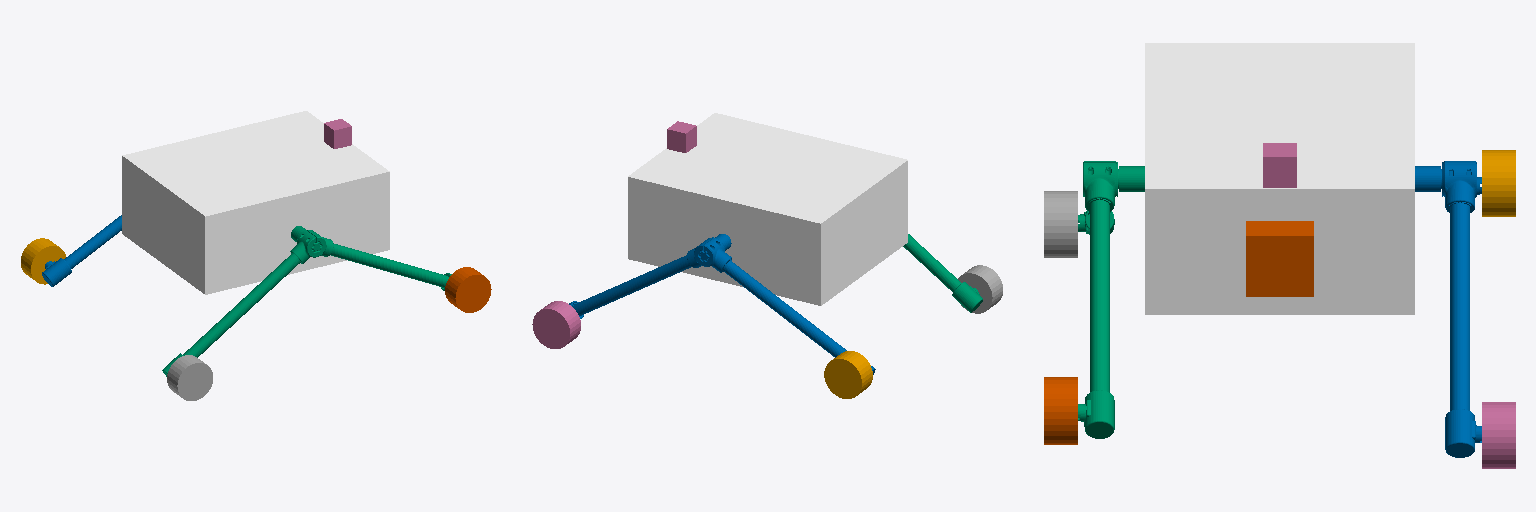
URDF robot description (plasticRover):
<?xml version="1.0" encoding="utf-8"?>
<!-- =================================================================================== -->
<!-- |    This document was autogenerated by xacro from rover.xacro                    | -->
<!-- |    EDITING THIS FILE BY HAND IS NOT RECOMMENDED                                 | -->
<!-- =================================================================================== -->
<robot name="plasticRover">
  <material name="black">
    <color rgba="0.0 0.0 0.0 1.0"/>
  </material>
  <material name="blue">
    <color rgba="0.203125 0.23828125 0.28515625 1.0"/>
  </material>
  <material name="green">
    <color rgba="0.0 0.8 0.0 1.0"/>
  </material>
  <material name="grey">
    <color rgba="0.2 0.2 0.2 1.0"/>
  </material>
  <material name="orange">
    <color rgba="1.0 0.423529411765 0.0392156862745 1.0"/>
  </material>
  <material name="brown">
    <color rgba="0.870588235294 0.811764705882 0.764705882353 1.0"/>
  </material>
  <material name="red">
    <color rgba="0.80078125 0.12890625 0.1328125 1.0"/>
  </material>
  <material name="white">
    <color rgba="1.0 1.0 1.0 1.0"/>
  </material>
  <gazebo>
    <plugin filename="libgazebo_ros_skid_steer_drive.so" name="ss_drive">
      <updateRate>100.0</updateRate>
      <robotNamespace>/</robotNamespace>
      <leftFrontJoint>wheel_FL</leftFrontJoint>
      <rightFrontJoint>wheel_FR</rightFrontJoint>
      <leftRearJoint>wheel_BL</leftRearJoint>
      <rightRearJoint>wheel_BR</rightRearJoint>
      <wheelSeparation>0.77</wheelSeparation>
      <wheelDiameter>0.2</wheelDiameter>
      <robotBaseFrame>link_chassis</robotBaseFrame>
      <torque>10</torque>
      <topicName>cmd_vel</topicName>
      <broadcastTF>false</broadcastTF>
    </plugin>
  </gazebo>
  <gazebo reference="camera_link">
    <sensor name="camera1" type="camera">
      <update_rate>30.0</update_rate>
      <camera name="head">
        <horizontal_fov>1.3962634</horizontal_fov>
        <image>
          <width>800</width>
          <height>800</height>
          <format>R8G8B8</format>
        </image>
        <clip>
          <near>0.02</near>
          <far>300</far>
        </clip>
        <noise>
          <type>gaussian</type>
          <!-- Noise is sampled independently per pixel on each frame.
		       That pixel's noise value is added to each of its color
		       channels, which at that point lie in the range [0,1]. -->
          <mean>0.0</mean>
          <stddev>0.007</stddev>
        </noise>
      </camera>
      <plugin filename="libgazebo_ros_camera.so" name="camera_controller">
        <alwaysOn>true</alwaysOn>
        <updateRate>0.0</updateRate>
        <cameraName>rover/camera1</cameraName>
        <imageTopicName>image_raw</imageTopicName>
        <cameraInfoTopicName>camera_info</cameraInfoTopicName>
        <frameName>camera_link</frameName>
        <hackBaseline>0.07</hackBaseline>
        <distortionK1>0.0</distortionK1>
        <distortionK2>0.0</distortionK2>
        <distortionK3>0.0</distortionK3>
        <distortionT1>0.0</distortionT1>
        <distortionT2>0.0</distortionT2>
      </plugin>
    </sensor>
  </gazebo>
  <gazebo reference="lidar_link">
    <sensor name="head_hokuyo_sensor" type="ray">
      <pose>0 0 0 0 0 0</pose>
      <visualize>false</visualize>
      <update_rate>40</update_rate>
      <ray>
        <scan>
          <horizontal>
            <samples>720</samples>
            <resolution>1</resolution>
            <min_angle>-1.570796</min_angle>
            <max_angle>1.570796</max_angle>
          </horizontal>
        </scan>
        <range>
          <min>0.10</min>
          <max>30.0</max>
          <resolution>0.01</resolution>
        </range>
        <noise>
          <type>gaussian</type>
          <!-- Noise parameters based on published spec for Hokuyo laser
               achieving "+-30mm" accuracy at range < 10m.  A mean of 0.0m and
               stddev of 0.01m will put 99.7% of samples within 0.03m of the true
               reading. -->
          <mean>0.0</mean>
          <stddev>0.01</stddev>
        </noise>
      </ray>
      <plugin filename="libgazebo_ros_laser.so" name="gazebo_ros_head_hokuyo_controller">
        <topicName>/rover/laser/scan</topicName>
        <frameName>lidar_link</frameName>
      </plugin>
    </sensor>
  </gazebo>
  <link name="link_chassis">
    <!-- values calculated in fusion360 -->
    <inertial>
      <mass value="2.441483"/>
      <origin rpy="0 0 0" xyz="0  0 0"/>
      <inertia ixx="0.061" ixy="0.0003601" ixz="-2.478e-05" iyy="0.119" iyz="5.191e-07" izz="0.081"/>
    </inertial>
    <collision>
      <geometry>
        <!--Again this is from the fusion360-->
        <box size="0.511 0.4 0.208"/>
      </geometry>
      <origin rpy="1.570796 0 0" xyz="0 0 0"/>
    </collision>
    <visual>
      <geometry>
        <!--<mesh filename="package://threedrover_description/MODELS/OWR_20_CHASSIS_00_ASM.stl" scale="0.001 0.001 0.001" />-->
        <box size="0.511 0.208 0.4"/>
      </geometry>
      <origin rpy="1.570796 0 0" xyz="0 0 0"/>
      <material name="white"/>
    </visual>
  </link>
  <!-- Differential -->
  <!-- Diif bar -->
  <link name="link_right_bogie_stat">
    <!-- values from the fusion360 files -->
    <inertial>
      <mass value="0.441"/>
      <origin rpy="0 0 0" xyz="-0.00000069097  0.0002123 0.038"/>
      <inertia ixx="0.002" ixy="-0.00003576" ixz="-0.000000003393" iyy="0.000779" iyz="0.00000003725" izz="0.002"/>
    </inertial>
    <!--  <inertial>
		      <mass value="0.441"/>
		      <inertia ixx="0.000526666666667" ixy="0" ixz="0" iyy="0.000526666666667" iyz="0" izz="0.001"/>
		    </inertial> -->
    <collision name="link_right_bogie_stat_collision">
      <geometry>
        <cylinder length="0.05" radius="0.05"/>
        <!--<mesh filename="package://threedrover_description/MODELS/OWR_20_BOGIE_00_ASM_STAT.stl" scale="0.001 0.001 0.001" />-->
      </geometry>
    </collision>
    <visual name="link_right_bogie_stat_visual">
      <geometry>
        <cylinder length="0.05" radius="0.05"/>
        <!--<mesh filename="package://threedrover_description/MODELS/OWR_20_BOGIE_00_ASM_STAT.stl" scale="0.001 0.001 0.001" />-->
      </geometry>
    </visual>
  </link>
  <link name="link_right_bogie_rot">
    <!-- values from the fusion360 files -->
    <inertial>
      <mass value="0.871251"/>
      <origin rpy="0 0 0" xyz="0.004  -0.077 0.091"/>
      <inertia ixx="0.009" ixy="-0.002" ixz="-9.081e-05" iyy="0.039" iyz="0.002" izz="0.045"/>
    </inertial>
    <visual name="link_right_bogie_rot_visual">
      <geometry>
        <mesh filename="package://threedrover_description/MODELS/OWR_20_BOGIE_00_ASM_ROT.stl" scale="0.001 0.001 0.001"/>
      </geometry>
    </visual>
  </link>
  <link name="link_left_bogie_stat">
    <!-- values from the fusion360 files -->
    <inertial>
      <mass value="0.441"/>
      <origin rpy="0 0 0" xyz="-0.00000069097  0.0002123 0.038"/>
      <inertia ixx="0.002" ixy="-0.00003576" ixz="-0.000000003393" iyy="0.000779" iyz="0.00000003725" izz="0.002"/>
    </inertial>
    <!--  <inertial>
		      <mass value="0.441"/>
		      <inertia ixx="0.000526666666667" ixy="0" ixz="0" iyy="0.000526666666667" iyz="0" izz="0.001"/>
		    </inertial> -->
    <collision name="link_left_bogie_stat_collision">
      <geometry>
        <cylinder length="0.05" radius="0.05"/>
        <!--<mesh filename="package://threedrover_description/MODELS/OWR_20_BOGIE_00_ASM_STAT.stl" scale="0.001 0.001 0.001" />-->
      </geometry>
    </collision>
    <visual name="link_left_bogie_stat_visual">
      <geometry>
        <cylinder length="0.05" radius="0.05"/>
        <!--<mesh filename="package://threedrover_description/MODELS/OWR_20_BOGIE_00_ASM_STAT.stl" scale="0.001 0.001 0.001" />-->
      </geometry>
    </visual>
  </link>
  <link name="link_left_bogie_rot">
    <!-- values from the fusion360 files -->
    <inertial>
      <mass value="0.871251"/>
      <origin rpy="0 0 0" xyz="0.004  -0.077 0.091"/>
      <inertia ixx="0.009" ixy="-0.002" ixz="-9.081e-05" iyy="0.039" iyz="0.002" izz="0.045"/>
    </inertial>
    <visual name="link_left_bogie_rot_visual">
      <geometry>
        <mesh filename="package://threedrover_description/MODELS/OWR_20_BOGIE_00_ASM_ROT.stl" scale="0.001 0.001 0.001"/>
      </geometry>
    </visual>
  </link>
  <joint name="joint_bogie_left_stat" type="fixed">
    <!-- <origin rpy="${1.570796*orientation} 0 0" xyz="0 ${-0.15516*orientation} 0"/> -->
    <origin rpy="-1.570796 0 0" xyz="0 0.15516 0"/>
    <child link="link_left_bogie_stat"/>
    <parent link="link_chassis"/>
    <axis rpy="1.570796 0 0" xyz="0 1 0"/>
    <limit effort="10000" velocity="1000"/>
    <joint_properties damping="1.0" friction="1.0"/>
  </joint>
  <joint name="joint_bogie_right_stat" type="fixed">
    <!-- <origin rpy="${1.570796*orientation} 0 0" xyz="0 ${-0.15516*orientation} 0"/> -->
    <origin rpy="1.570796 0 0" xyz="0 -0.15516 0"/>
    <child link="link_right_bogie_stat"/>
    <parent link="link_chassis"/>
    <axis rpy="1.570796 0 0" xyz="0 1 0"/>
    <limit effort="10000" velocity="1000"/>
    <joint_properties damping="1.0" friction="1.0"/>
  </joint>
  <joint name="joint_bogie_right_rot" type="continuous">
    <!-- <origin rpy="0 ${(orientation ==-1)*3.14 + orientation*0.06925171} 0" xyz="0 0 0"/> -->
    <origin rpy="0 0 0.0" xyz="0 0 0"/>
    <child link="link_right_bogie_rot"/>
    <parent link="link_right_bogie_stat"/>
    <axis rpy="0 0 0" xyz="0 0 1"/>
    <limit effort="10000" velocity="1000"/>
    <joint_properties damping="1.0" friction="1.0"/>
  </joint>
  <joint name="joint_bogie_left_rot" type="continuous">
    <!-- <origin rpy="0 ${(orientation ==-1)*3.14 + orientation*0.06925171} 0" xyz="0 0 0"/> -->
    <origin rpy="0 0 3.14159" xyz="0 0 0"/>
    <child link="link_left_bogie_rot"/>
    <parent link="link_left_bogie_stat"/>
    <axis rpy="0 0 0" xyz="0 0 1"/>
    <limit effort="10000" velocity="1000"/>
    <joint_properties damping="1.0" friction="1.0"/>
  </joint>
  <!-- Wheel -->
  <link name="link_FRSWheel">
    <!-- values from the fusion360 files -->
    <inertial>
      <mass value="1.397"/>
      <origin rpy="0 0 0" xyz="0.003  -0.003 0.013"/>
      <inertia ixx="0.002" ixy="-0.000006590" ixz="0.0001390" iyy="0.002" iyz="-0.0000004779" izz="0.002"/>
    </inertial>
    <collision name="link_FRSWheel_collision">
      <geometry>
        <cylinder length="0.05" radius="0.05"/>
      </geometry>
    </collision>
    <visual name="link_FRSWheel_visual">
      <geometry>
        <cylinder length="0.05" radius="0.05"/>
        <!-- <mesh filename="package://threedrover_description/MODELS/OWR_20_DRIVE_00_ASM_STAT.stl" scale="0.001 0.001 0.001" /> -->
      </geometry>
    </visual>
  </link>
  <link name="link_FLSWheel">
    <!-- values from the fusion360 files -->
    <inertial>
      <mass value="1.397"/>
      <origin rpy="0 0 0" xyz="0.003  -0.003 0.013"/>
      <inertia ixx="0.002" ixy="-0.000006590" ixz="0.0001390" iyy="0.002" iyz="-0.0000004779" izz="0.002"/>
    </inertial>
    <collision name="link_FLSWheel_collision">
      <geometry>
        <cylinder length="0.05" radius="0.05"/>
      </geometry>
    </collision>
    <visual name="link_FLSWheel_visual">
      <geometry>
        <cylinder length="0.05" radius="0.05"/>
        <!-- <mesh filename="package://threedrover_description/MODELS/OWR_20_DRIVE_00_ASM_STAT.stl" scale="0.001 0.001 0.001" /> -->
      </geometry>
    </visual>
  </link>
  <link name="link_BRSWheel">
    <!-- values from the fusion360 files -->
    <inertial>
      <mass value="1.397"/>
      <origin rpy="0 0 0" xyz="0.003  -0.003 0.013"/>
      <inertia ixx="0.002" ixy="-0.000006590" ixz="0.0001390" iyy="0.002" iyz="-0.0000004779" izz="0.002"/>
    </inertial>
    <collision name="link_BRSWheel_collision">
      <geometry>
        <cylinder length="0.05" radius="0.05"/>
      </geometry>
    </collision>
    <visual name="link_BRSWheel_visual">
      <geometry>
        <cylinder length="0.05" radius="0.05"/>
        <!-- <mesh filename="package://threedrover_description/MODELS/OWR_20_DRIVE_00_ASM_STAT.stl" scale="0.001 0.001 0.001" /> -->
      </geometry>
    </visual>
  </link>
  <link name="link_BLSWheel">
    <!-- values from the fusion360 files -->
    <inertial>
      <mass value="1.397"/>
      <origin rpy="0 0 0" xyz="0.003  -0.003 0.013"/>
      <inertia ixx="0.002" ixy="-0.000006590" ixz="0.0001390" iyy="0.002" iyz="-0.0000004779" izz="0.002"/>
    </inertial>
    <collision name="link_BLSWheel_collision">
      <geometry>
        <cylinder length="0.05" radius="0.05"/>
      </geometry>
    </collision>
    <visual name="link_BLSWheel_visual">
      <geometry>
        <cylinder length="0.05" radius="0.05"/>
        <!-- <mesh filename="package://threedrover_description/MODELS/OWR_20_DRIVE_00_ASM_STAT.stl" scale="0.001 0.001 0.001" /> -->
      </geometry>
    </visual>
  </link>
  <joint name="wheelmount_FL" type="fixed">
    <!-- one leg goes (0.4006 and -0.193183) while the other goes (-0.370 and -0.247057)  using vector magic the
				wheel positions can be paramaterised for end =1 or end = -1 -->
    <origin rpy="0 0 -1.570796" xyz="-0.37 -0.247057 0.17"/>
    <child link="link_FLSWheel"/>
    <parent link="link_left_bogie_rot"/>
    <axis rpy="1.570796 0 0" xyz="0 0 1"/>
    <limit effort="10000" velocity="1000"/>
    <joint_properties damping="1.0" friction="1.0"/>
  </joint>
  <joint name="wheelmount_BL" type="fixed">
    <!-- one leg goes (0.4006 and -0.193183) while the other goes (-0.370 and -0.247057)  using vector magic the
				wheel positions can be paramaterised for end =1 or end = -1 -->
    <origin rpy="0 0 -1.570796" xyz="0.4006 -0.193183 0.17"/>
    <child link="link_BLSWheel"/>
    <parent link="link_left_bogie_rot"/>
    <axis rpy="1.570796 0 0" xyz="0 0 1"/>
    <limit effort="10000" velocity="1000"/>
    <joint_properties damping="1.0" friction="1.0"/>
  </joint>
  <joint name="wheelmount_FR" type="fixed">
    <!-- one leg goes (0.4006 and -0.193183) while the other goes (-0.370 and -0.247057)  using vector magic the
				wheel positions can be paramaterised for end =1 or end = -1 -->
    <origin rpy="0 0 1.570796" xyz="0.4006 -0.193183 0.17"/>
    <child link="link_FRSWheel"/>
    <parent link="link_right_bogie_rot"/>
    <axis rpy="1.570796 0 0" xyz="0 0 1"/>
    <limit effort="10000" velocity="1000"/>
    <joint_properties damping="1.0" friction="1.0"/>
  </joint>
  <joint name="wheelmount_BR" type="fixed">
    <!-- one leg goes (0.4006 and -0.193183) while the other goes (-0.370 and -0.247057)  using vector magic the
				wheel positions can be paramaterised for end =1 or end = -1 -->
    <origin rpy="0 0 1.570796" xyz="-0.37 -0.247057 0.17"/>
    <child link="link_BRSWheel"/>
    <parent link="link_right_bogie_rot"/>
    <axis rpy="1.570796 0 0" xyz="0 0 1"/>
    <limit effort="10000" velocity="1000"/>
    <joint_properties damping="1.0" friction="1.0"/>
  </joint>
  <link name="link_FRRWheel">
    <!-- values from the fusion360 files -->
    <inertial>
      <mass value="6.598"/>
      <origin rpy="0 0 0" xyz="-0.003  -0.003 0.026"/>
      <inertia ixx="0.031" ixy="0.0000002489" ixz="-0.000000001240" iyy="0.031" iyz="0.00000001531" izz="0.051"/>
    </inertial>
    <collision name="link_FRRWheel_collision">
      <geometry>
        <!--	<mesh filename="package://threedrover_description/MODELS/OWR_20_DRIVE_00_ASM_ROT.stl" scale="0.001 0.001 0.001" /> -->
        <cylinder length="0.098" radius="0.1"/>
      </geometry>
    </collision>
    <visual name="link_FRRWheel_visual">
      <geometry>
        <mesh filename="package://threedrover_description/MODELS/OWR_20_DRIVE_00_ASM_ROT.stl" scale="0.001 0.001 0.001"/>
        <!--<cylinder length="0.098" radius="0.1"/> -->
      </geometry>
    </visual>
  </link>
  <link name="link_BRRWheel">
    <!-- values from the fusion360 files -->
    <inertial>
      <mass value="6.598"/>
      <origin rpy="0 0 0" xyz="-0.003  -0.003 0.026"/>
      <inertia ixx="0.031" ixy="0.0000002489" ixz="-0.000000001240" iyy="0.031" iyz="0.00000001531" izz="0.051"/>
    </inertial>
    <collision name="link_BRRWheel_collision">
      <geometry>
        <!--	<mesh filename="package://threedrover_description/MODELS/OWR_20_DRIVE_00_ASM_ROT.stl" scale="0.001 0.001 0.001" /> -->
        <cylinder length="0.098" radius="0.1"/>
      </geometry>
    </collision>
    <visual name="link_BRRWheel_visual">
      <geometry>
        <mesh filename="package://threedrover_description/MODELS/OWR_20_DRIVE_00_ASM_ROT.stl" scale="0.001 0.001 0.001"/>
        <!--<cylinder length="0.098" radius="0.1"/> -->
      </geometry>
    </visual>
  </link>
  <link name="link_FLRWheel">
    <!-- values from the fusion360 files -->
    <inertial>
      <mass value="6.598"/>
      <origin rpy="0 0 0" xyz="-0.003  -0.003 0.026"/>
      <inertia ixx="0.031" ixy="0.0000002489" ixz="-0.000000001240" iyy="0.031" iyz="0.00000001531" izz="0.051"/>
    </inertial>
    <collision name="link_FLRWheel_collision">
      <geometry>
        <!--	<mesh filename="package://threedrover_description/MODELS/OWR_20_DRIVE_00_ASM_ROT.stl" scale="0.001 0.001 0.001" /> -->
        <cylinder length="0.098" radius="0.1"/>
      </geometry>
    </collision>
    <visual name="link_FLRWheel_visual">
      <geometry>
        <mesh filename="package://threedrover_description/MODELS/OWR_20_DRIVE_00_ASM_ROT.stl" scale="0.001 0.001 0.001"/>
        <!--<cylinder length="0.098" radius="0.1"/> -->
      </geometry>
    </visual>
  </link>
  <link name="link_BLRWheel">
    <!-- values from the fusion360 files -->
    <inertial>
      <mass value="6.598"/>
      <origin rpy="0 0 0" xyz="-0.003  -0.003 0.026"/>
      <inertia ixx="0.031" ixy="0.0000002489" ixz="-0.000000001240" iyy="0.031" iyz="0.00000001531" izz="0.051"/>
    </inertial>
    <collision name="link_BLRWheel_collision">
      <geometry>
        <!--	<mesh filename="package://threedrover_description/MODELS/OWR_20_DRIVE_00_ASM_ROT.stl" scale="0.001 0.001 0.001" /> -->
        <cylinder length="0.098" radius="0.1"/>
      </geometry>
    </collision>
    <visual name="link_BLRWheel_visual">
      <geometry>
        <mesh filename="package://threedrover_description/MODELS/OWR_20_DRIVE_00_ASM_ROT.stl" scale="0.001 0.001 0.001"/>
        <!--<cylinder length="0.098" radius="0.1"/> -->
      </geometry>
    </visual>
  </link>
  <joint name="wheel_FL" type="continuous">
    <!--<origin rpy="0 0 0" xyz="${-0.3865*end} ${-(0.15516+0.134 + 0.078)*orientation} -0.22012"/> -->
    <!--
			<origin rpy="${1.570796*orientation} ${(orientation ==-1)*3.14} 0" xyz="${-0.3865*end} ${-(0.15516+0.134 + 0.078)*orientation} -0.22012"/> -->
    <origin rpy="0 0 -1.570796" xyz="0 0 0.05"/>
    <child link="link_FLRWheel"/>
    <parent link="link_FLSWheel"/>
    <axis rpy="0 0 0" xyz="0 0 1"/>
    <limit effort="10000" velocity="1000"/>
    <joint_properties damping="1.0" friction="1.0"/>
  </joint>
  <joint name="wheel_BL" type="continuous">
    <!--<origin rpy="0 0 0" xyz="${-0.3865*end} ${-(0.15516+0.134 + 0.078)*orientation} -0.22012"/> -->
    <!--
			<origin rpy="${1.570796*orientation} ${(orientation ==-1)*3.14} 0" xyz="${-0.3865*end} ${-(0.15516+0.134 + 0.078)*orientation} -0.22012"/> -->
    <origin rpy="0 0 -1.570796" xyz="0 0 0.05"/>
    <child link="link_BLRWheel"/>
    <parent link="link_BLSWheel"/>
    <axis rpy="0 0 0" xyz="0 0 1"/>
    <limit effort="10000" velocity="1000"/>
    <joint_properties damping="1.0" friction="1.0"/>
  </joint>
  <joint name="wheel_FR" type="continuous">
    <!--<origin rpy="0 0 0" xyz="${-0.3865*end} ${-(0.15516+0.134 + 0.078)*orientation} -0.22012"/> -->
    <!--
			<origin rpy="${1.570796*orientation} ${(orientation ==-1)*3.14} 0" xyz="${-0.3865*end} ${-(0.15516+0.134 + 0.078)*orientation} -0.22012"/> -->
    <origin rpy="0 0 1.570796" xyz="0 0 0.05"/>
    <child link="link_FRRWheel"/>
    <parent link="link_FRSWheel"/>
    <axis rpy="0 0 0" xyz="0 0 1"/>
    <limit effort="10000" velocity="1000"/>
    <joint_properties damping="1.0" friction="1.0"/>
  </joint>
  <joint name="wheel_BR" type="continuous">
    <!--<origin rpy="0 0 0" xyz="${-0.3865*end} ${-(0.15516+0.134 + 0.078)*orientation} -0.22012"/> -->
    <!--
			<origin rpy="${1.570796*orientation} ${(orientation ==-1)*3.14} 0" xyz="${-0.3865*end} ${-(0.15516+0.134 + 0.078)*orientation} -0.22012"/> -->
    <origin rpy="0 0 1.570796" xyz="0 0 0.05"/>
    <child link="link_BRRWheel"/>
    <parent link="link_BRSWheel"/>
    <axis rpy="0 0 0" xyz="0 0 1"/>
    <limit effort="10000" velocity="1000"/>
    <joint_properties damping="1.0" friction="1.0"/>
  </joint>
  <link name="camera_link">
    <visual>
      <geometry>
        <box size="0.1 0.1 0.1"/>
      </geometry>
    </visual>
    <origin rpy="0 0 0" xyz="0 0 0"/>
    <material name="green"/>
  </link>
  <link name="lidar_link">
    <visual>
      <geometry>
        <box size="0.05 0.05 0.1"/>
      </geometry>
    </visual>
    <origin rpy="0 0 0" xyz="0 0 0"/>
    <material name="green"/>
  </link>
  <joint name="camera_joint" type="fixed">
    <!-- <origin rpy="${1.570796*orientation} 0 0" xyz="0 ${-0.15516*orientation} 0"/> -->
    <origin rpy="0 0 0" xyz="0.2555 0 0"/>
    <child link="camera_link"/>
    <parent link="link_chassis"/>
    <axis rpy="1.570796 0 0" xyz="0 1 0"/>
    <limit effort="10000" velocity="1000"/>
    <joint_properties damping="1.0" friction="1.0"/>
  </joint>
  <joint name="lidar_joint" type="fixed">
    <!-- <origin rpy="${1.570796*orientation} 0 0" xyz="0 ${-0.15516*orientation} 0"/> -->
    <origin rpy="0 0 0" xyz="0.2275 0 0.104"/>
    <child link="lidar_link"/>
    <parent link="link_chassis"/>
    <axis rpy="1.570796 0 0" xyz="0 1 0"/>
    <limit effort="10000" velocity="1000"/>
    <joint_properties damping="1.0" friction="1.0"/>
  </joint>
</robot>

--- Render facts (derived) ---
3 views of the same robot in one strip: view 1: azimuth 30°, elevation 25°; view 2: azimuth 150°, elevation 25°; view 3: azimuth 270°, elevation 25° (orthographic).
Model plasticRover with 15 links and 14 joints (6 continuous, 8 fixed), rooted at link_chassis, posed all joints at 0.
Links seen in each view (by area): view 1: link_chassis, link_right_bogie_rot, link_BRSWheel, link_FRSWheel, link_left_bogie_rot, link_BLSWheel, lidar_link; view 2: link_chassis, link_left_bogie_rot, link_BLSWheel, link_FLSWheel, link_right_bogie_rot, link_BRSWheel, lidar_link; view 3: link_chassis, link_left_bogie_rot, link_right_bogie_rot, camera_link, link_FRSWheel, link_FLSWheel, link_BRSWheel, link_BLSWheel, lidar_link.
Boxes of the visible links, x1,y1,x2,y2 form: link_chassis: (122,111,389,294); link_right_bogie_rot: (162,226,451,376); link_BRSWheel: (167,355,212,400); link_FRSWheel: (445,267,491,312); link_left_bogie_rot: (42,215,121,286); link_BLSWheel: (21,238,65,284); lidar_link: (324,119,351,148); link_chassis: (628,113,907,305); link_left_bogie_rot: (569,234,875,374); link_BLSWheel: (824,351,872,398); link_FLSWheel: (532,301,580,348); link_right_bogie_rot: (903,234,982,312); link_BRSWheel: (958,265,1002,313); lidar_link: (667,121,696,152); link_chassis: (1145,43,1414,314); link_left_bogie_rot: (1415,161,1481,457); link_right_bogie_rot: (1078,161,1144,438); camera_link: (1246,221,1313,296); link_FRSWheel: (1044,377,1077,444); link_FLSWheel: (1482,402,1515,468); link_BRSWheel: (1044,191,1077,257); link_BLSWheel: (1482,150,1515,216); lidar_link: (1263,143,1296,187).
Size in the robot's own frame: 0.9012 by 0.7003 by 0.4511 metres.
2 mesh visuals loaded from 2 distinct referenced files (1 binary STL); not drawn: 4 (reference not matched to a file when rendering).
